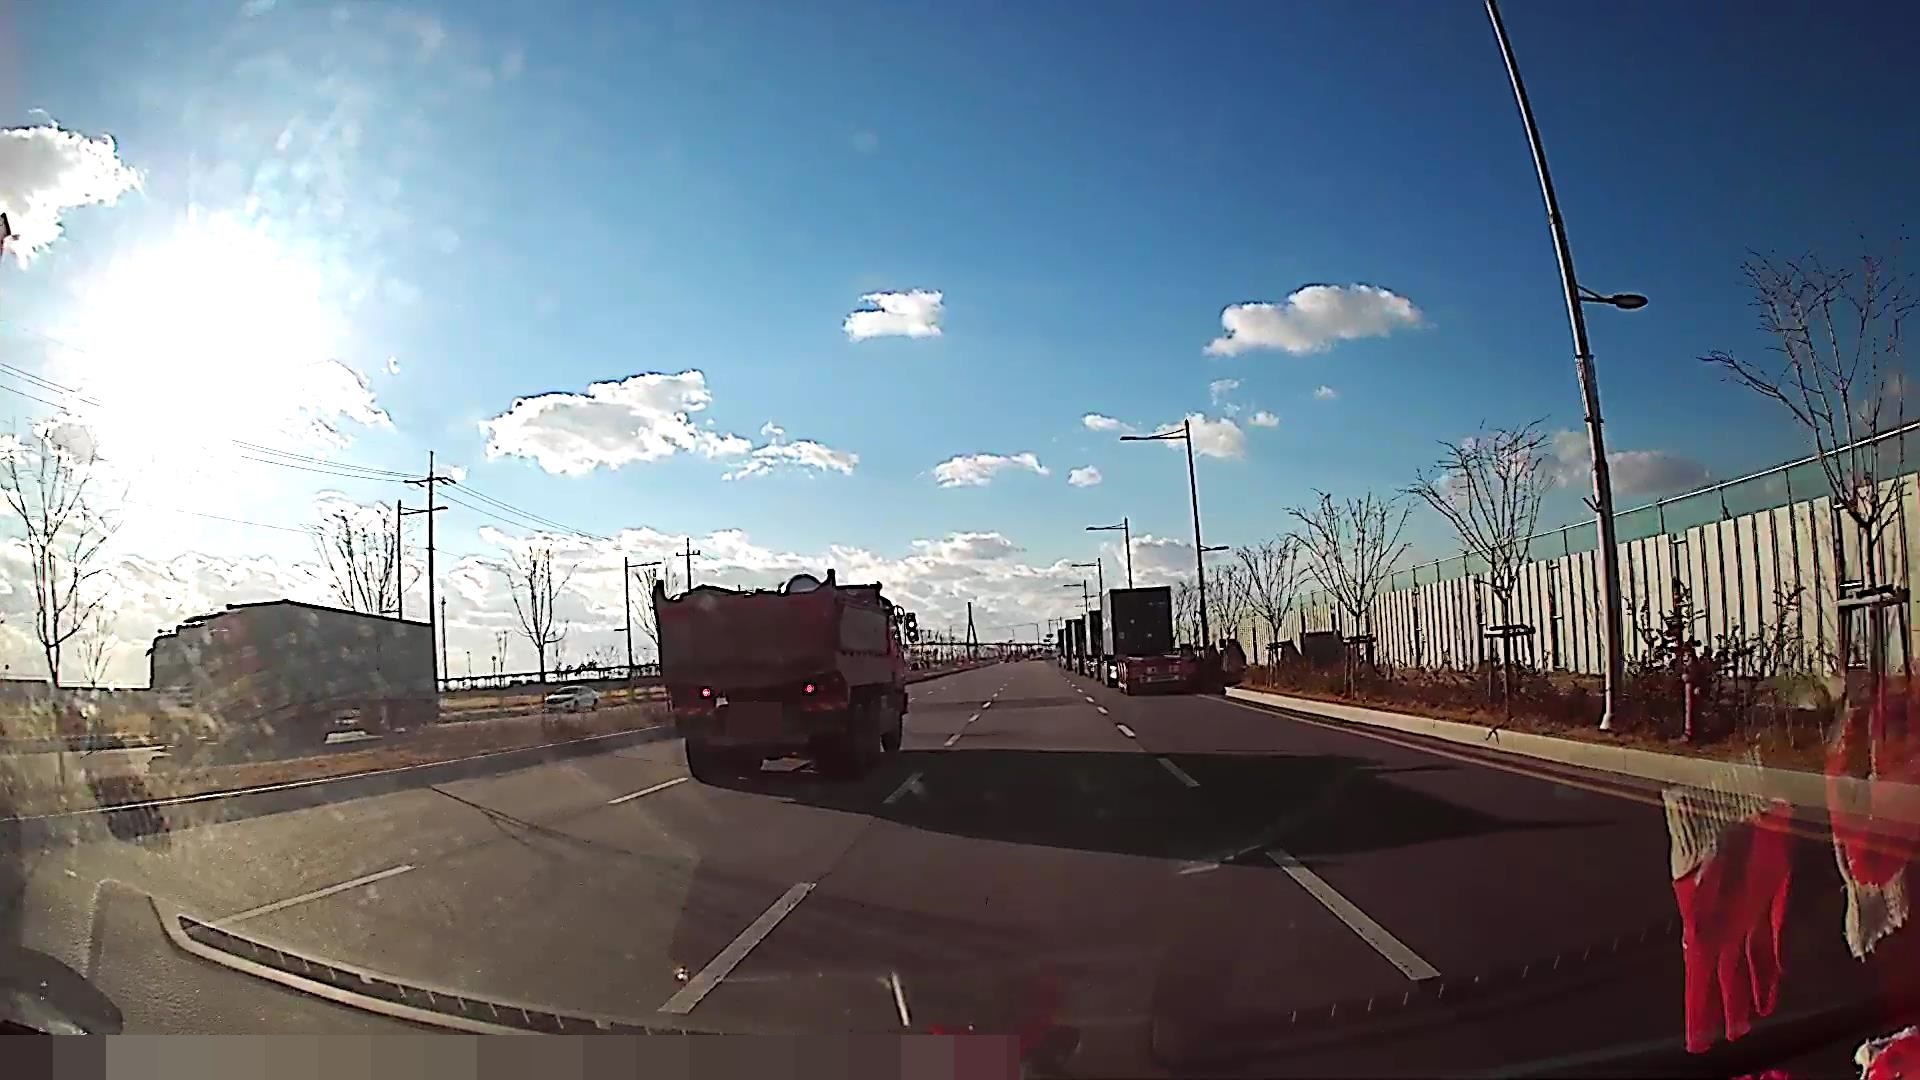불법차량: (651, 568, 919, 783)
